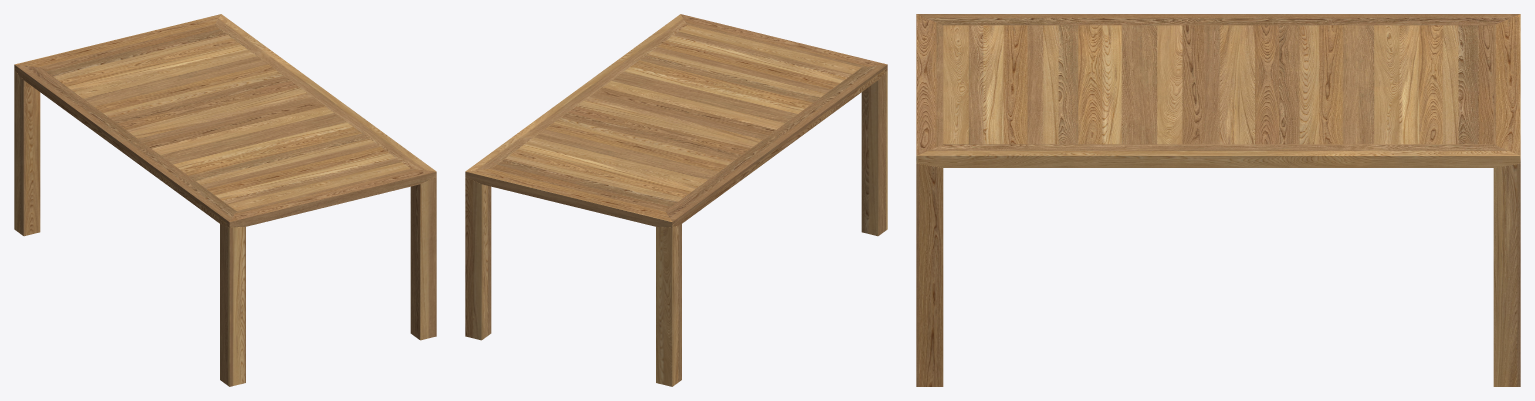
File: Table.dae
The picture shows the model from 3 angles, left to right: view 1: azimuth 30°, elevation 25°; view 2: azimuth 150°, elevation 25°; view 3: azimuth 270°, elevation 25°; orthographic projection. The views are drawn at different scales.
Visible parts, largest first — view 1: group_3, group_5, group_2, group_1, group_7, group_8, group_6, group_4; view 2: group_3, group_5, group_0, group_7, group_1, group_4, group_6, group_8; view 3: group_3, group_6, group_5, group_0, group_2, group_4, group_8.
Boxes of the visible parts, x1,y1,x2,y2 form: group_3: (40, 25, 409, 210); group_5: (14, 64, 236, 227); group_2: (410, 177, 436, 340); group_1: (220, 224, 245, 386); group_7: (14, 70, 40, 236); group_8: (229, 168, 436, 227); group_6: (214, 14, 436, 171); group_4: (14, 14, 220, 67); group_3: (492, 25, 861, 210); group_5: (665, 64, 887, 227); group_0: (465, 177, 491, 340); group_7: (656, 224, 681, 386); group_1: (861, 70, 887, 236); group_4: (465, 168, 672, 227); group_6: (465, 14, 687, 171); group_8: (681, 14, 887, 67); group_3: (943, 25, 1493, 144); group_6: (916, 144, 1520, 167); group_5: (917, 14, 1519, 25); group_0: (1493, 163, 1520, 386); group_2: (916, 163, 943, 386); group_4: (1493, 14, 1520, 155); group_8: (916, 14, 943, 155).
Bounding box in the file's own units: 39.37 × 29.92 × 70.87.
1 material, 1 textured.
